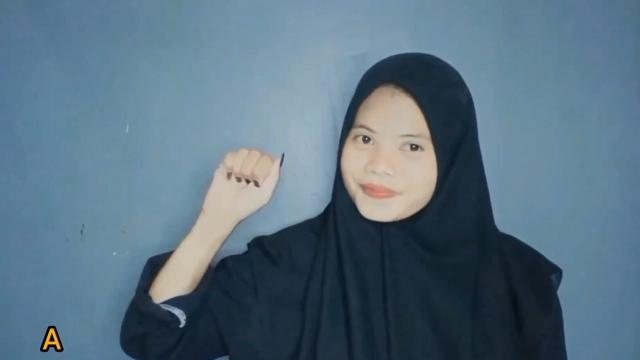A: (207, 145, 287, 224)
